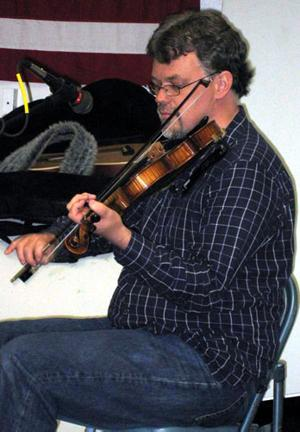person: (1, 11, 295, 432)
